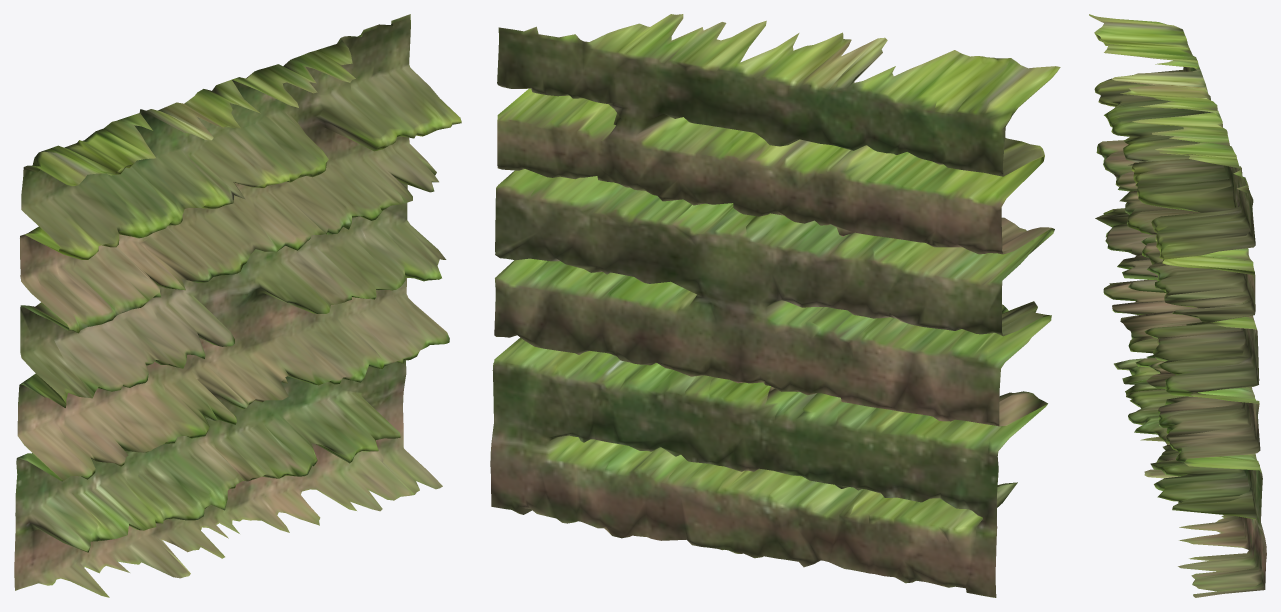
File: map_210_40.obj
The picture shows the model from 3 angles, left to right: view 1: azimuth 30°, elevation 25°; view 2: azimuth 150°, elevation 25°; view 3: azimuth 270°, elevation 25°; orthographic projection. The views are drawn at different scales.
Parts seen in each view (by area): view 1: map_210_40.obj; view 2: map_210_40.obj; view 3: map_210_40.obj.
Boxes of the visible parts, box(x1,y1,x2,y2) form: map_210_40.obj: box(14, 14, 461, 597); map_210_40.obj: box(490, 14, 1060, 597); map_210_40.obj: box(1089, 14, 1266, 597).
Bounding box in the file's own units: 10 × 10 × 4.05.
1 material, 1 textured.
